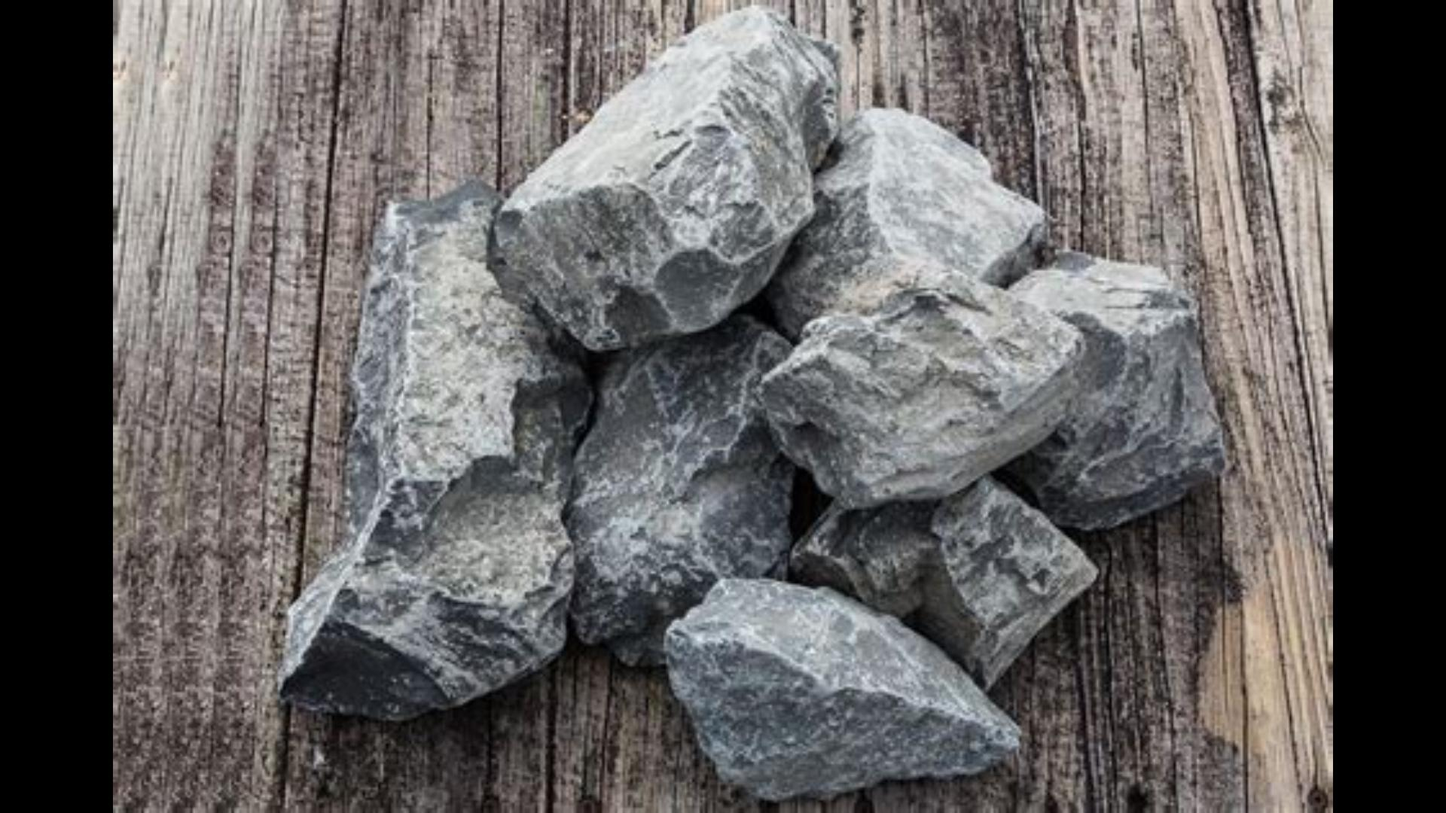rock: (280, 183, 589, 718), (494, 13, 834, 347), (571, 314, 792, 661), (669, 579, 1016, 798), (762, 275, 1081, 504), (795, 476, 1094, 687), (769, 111, 1042, 337), (1004, 252, 1222, 525)
